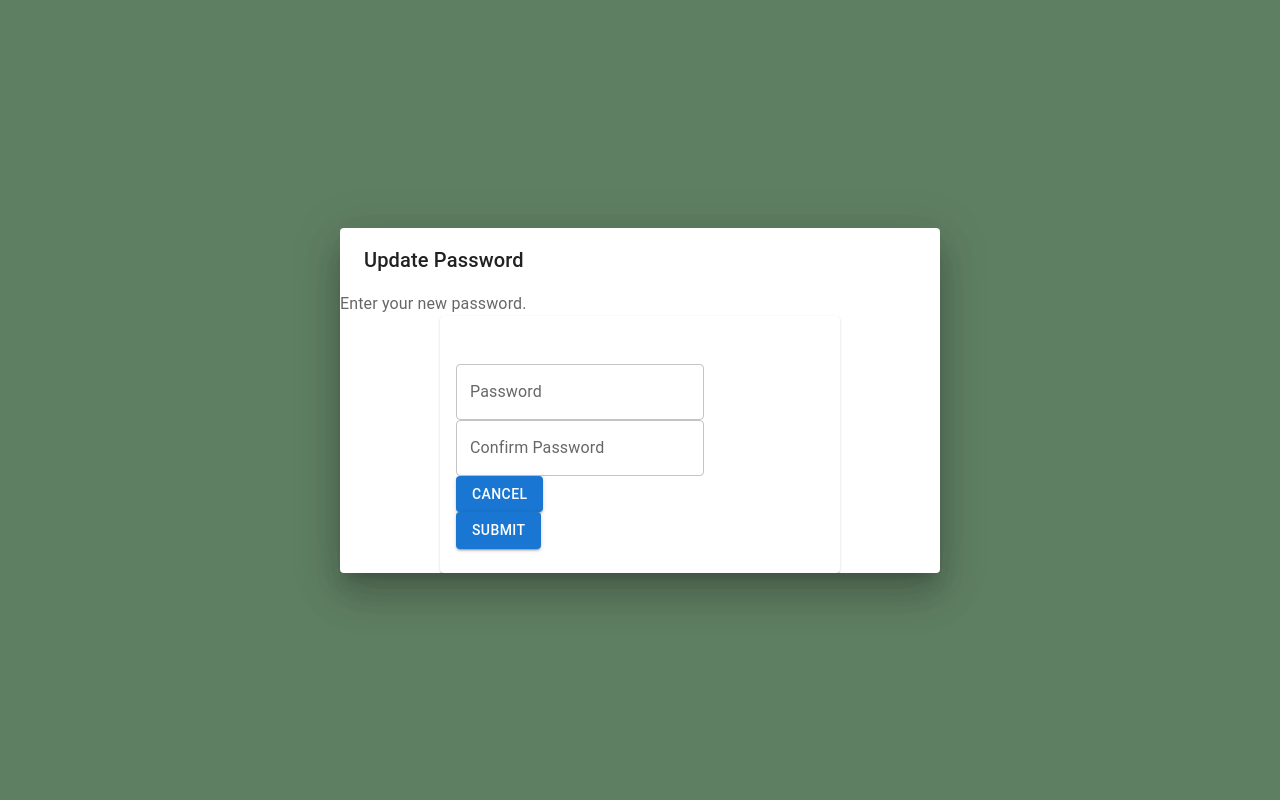
UpdatePasswordDialog › should setError if returns false
Type "password" into the field with test id "password".
click(580, 392); type("password")  # box left=456, top=364, right=704, bottom=420
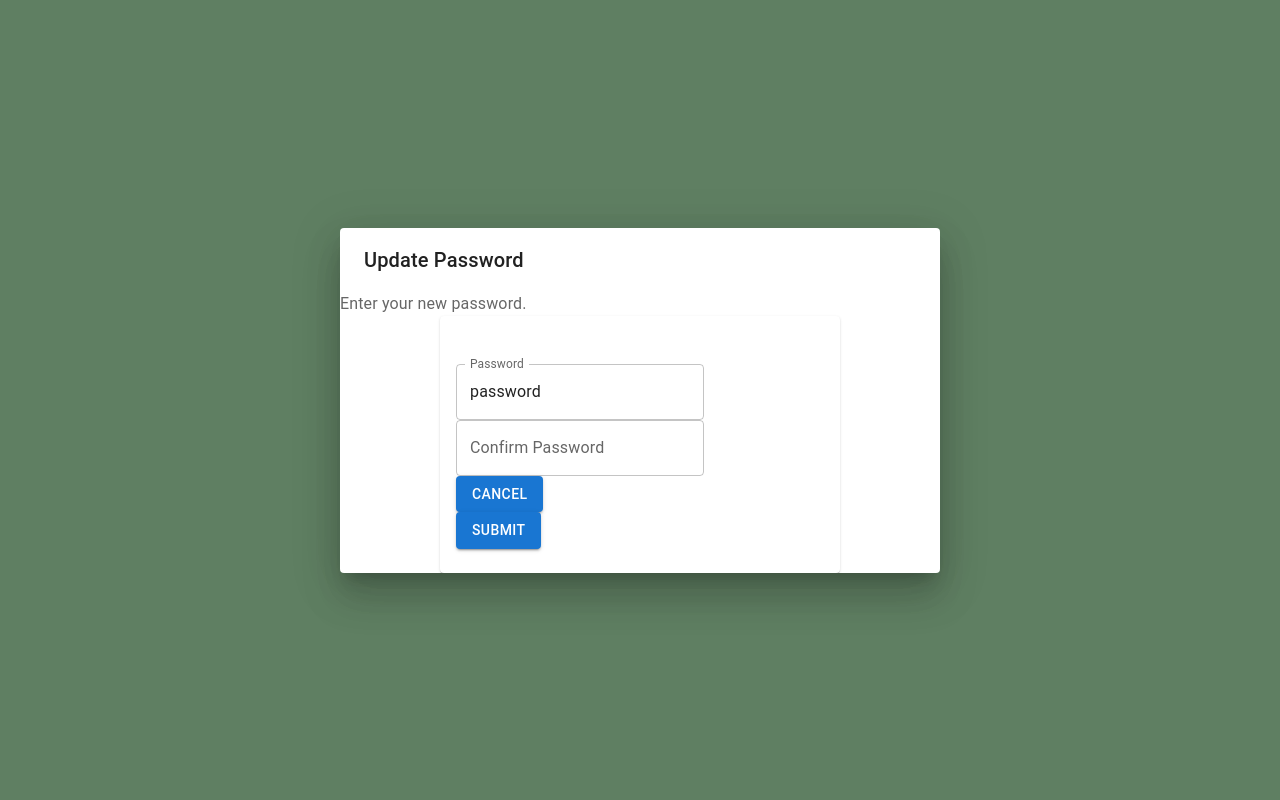
Type "password" into the field with test id "passwordConfirmation".
click(580, 448); type("password")  # box left=456, top=420, right=704, bottom=476
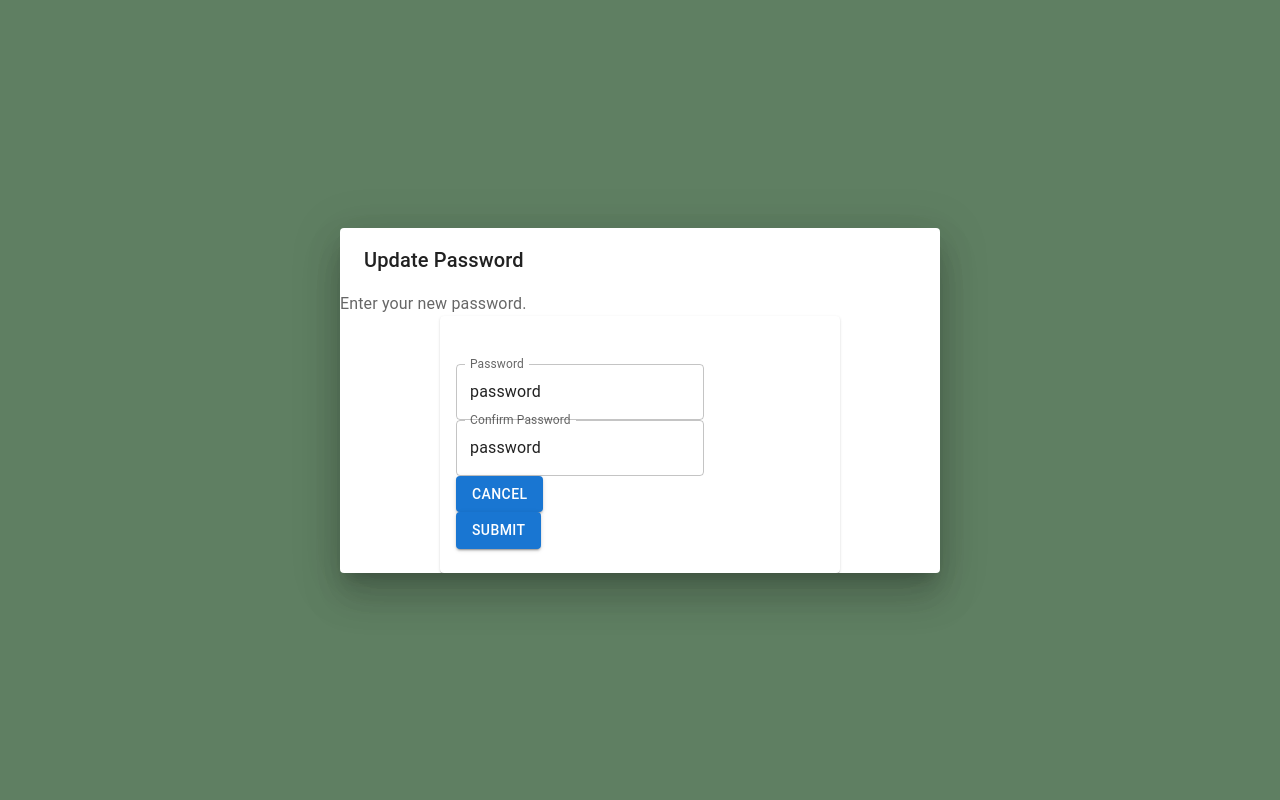
Click the button "Submit".
click(499, 530)  # box left=456, top=512, right=541, bottom=548
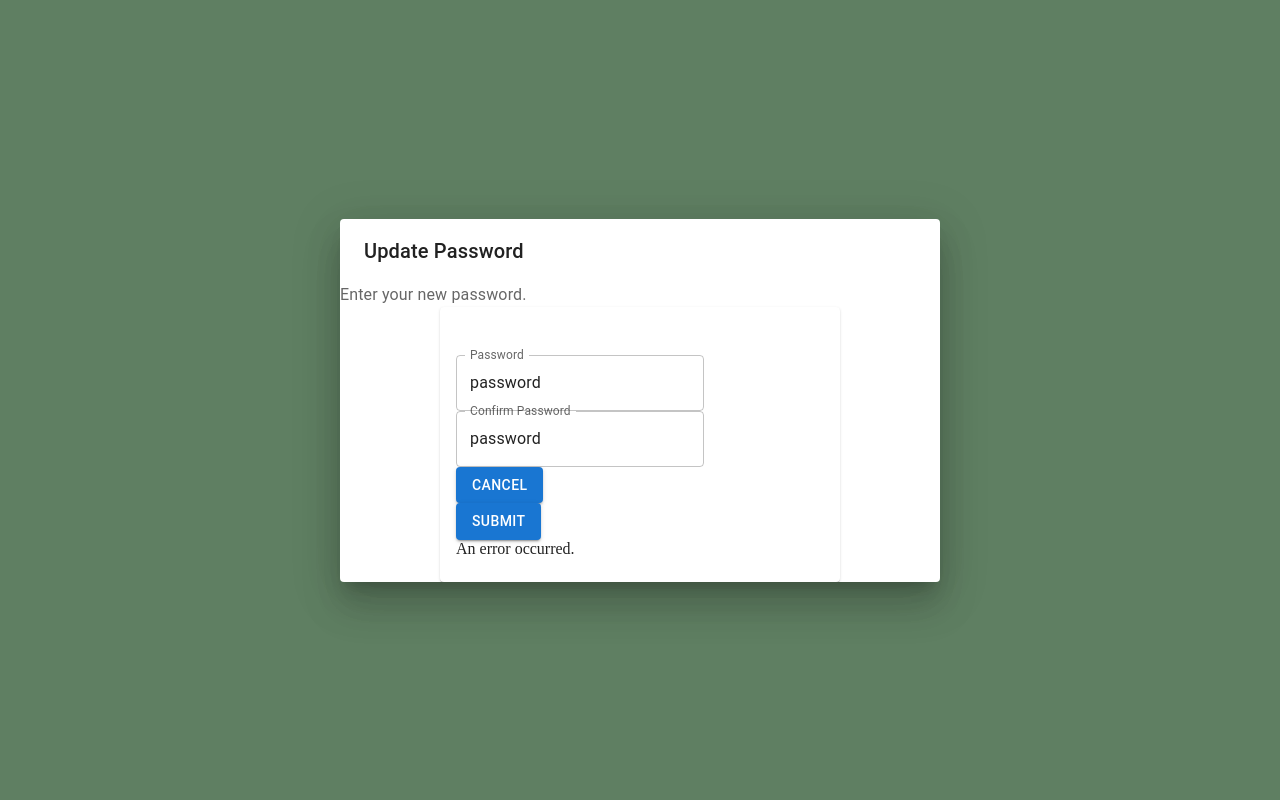
Now the text "An error occurred." is shown, box left=456, top=540, right=575, bottom=556
